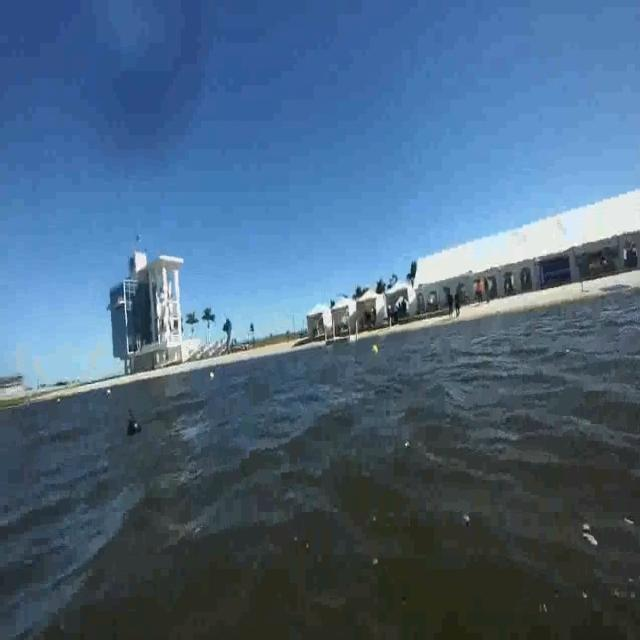black-buoy: (125, 417, 142, 437)
yellow-buoy: (371, 342, 379, 356)
